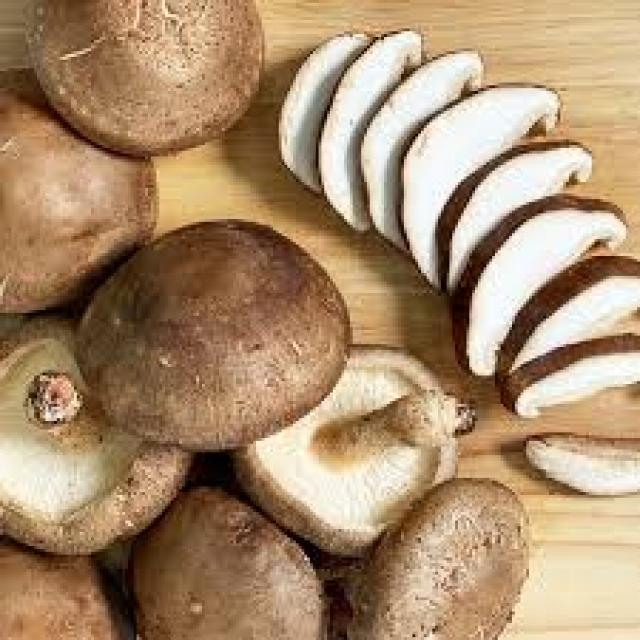mushroom: (80, 222, 353, 452), (0, 319, 193, 556), (236, 350, 458, 556)
